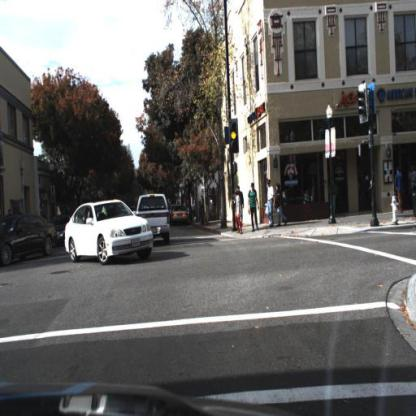car: (64, 200, 156, 264), (2, 210, 59, 265), (57, 213, 67, 251)
pedestrian: (392, 164, 407, 217), (276, 181, 287, 225), (249, 181, 259, 227), (267, 178, 275, 227), (236, 192, 242, 237), (238, 182, 244, 205)
trafficLight: (231, 120, 241, 154)
